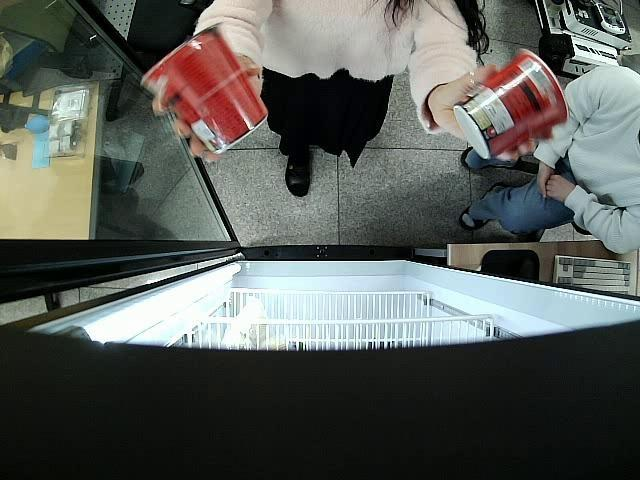02_shinRamen_S: (139, 18, 268, 152), (453, 48, 568, 160)
